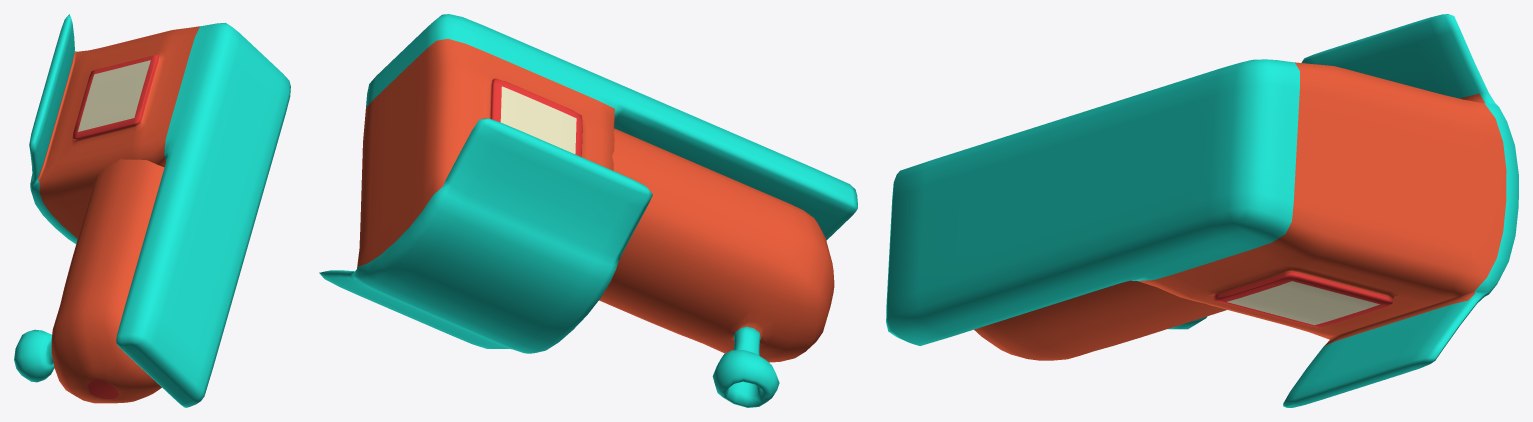
Rendered from Bahadori_Amanda_HW2_TrainAroundWorld.fbx.
3 views of the same model, side by side, from view 1: azimuth 30°, elevation 25°; view 2: azimuth 150°, elevation 25°; view 3: azimuth 270°, elevation 25° (orthographic). The views are drawn at different scales.
Visible parts, largest first — view 1: 0_Train; view 2: 0_Train; view 3: 0_Train.
Part boxes in pixels (box(x1,y1,x2,y2)): 0_Train: box(14, 14, 290, 407); 0_Train: box(319, 14, 857, 407); 0_Train: box(886, 14, 1518, 407).
Bounding box in the file's own units: 26.39 × 23.89 × 32.16.
